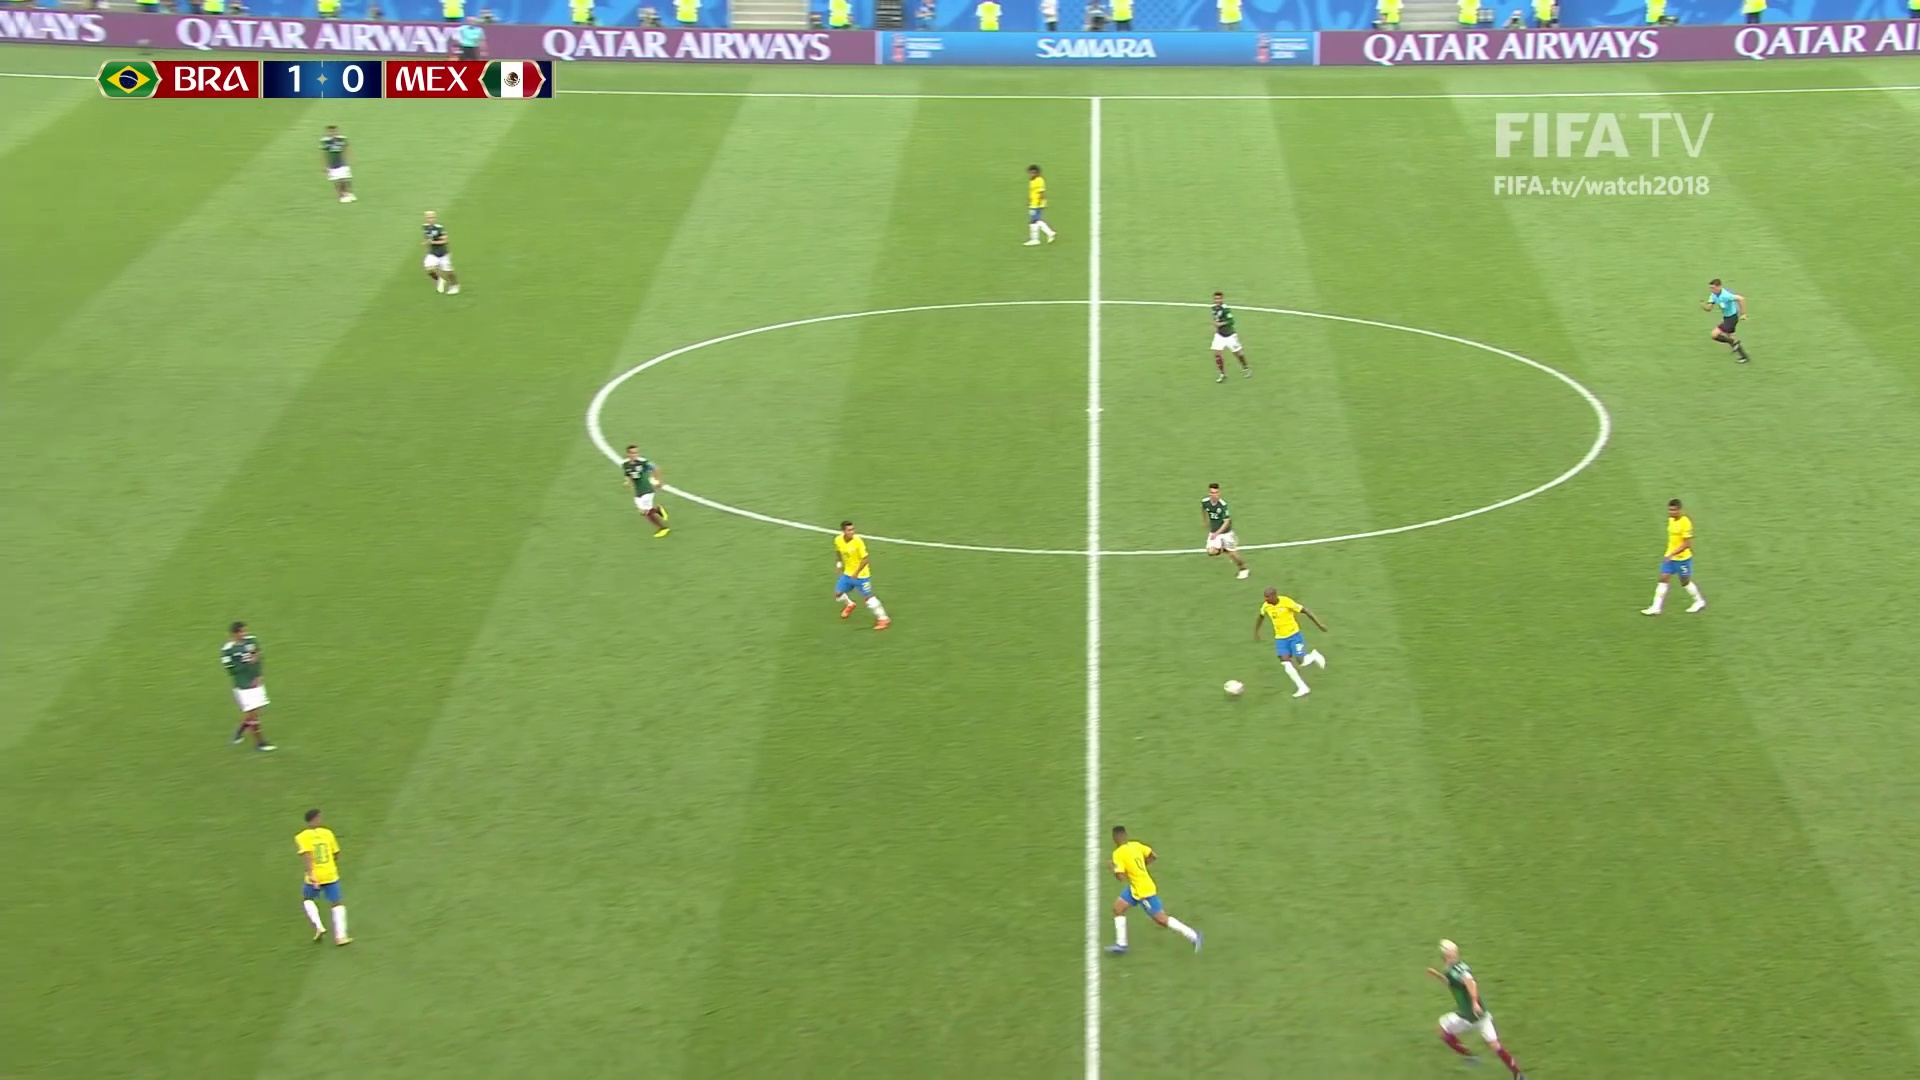ball: (1225, 681, 1243, 697)
person: (1432, 943, 1523, 1080), (1111, 824, 1192, 959), (1257, 582, 1328, 697), (1642, 501, 1705, 615), (223, 624, 280, 745), (298, 813, 348, 943), (832, 520, 892, 626), (1207, 484, 1251, 580), (623, 449, 669, 536), (1017, 163, 1061, 243), (1209, 290, 1246, 380), (319, 128, 359, 203), (421, 211, 455, 288)
